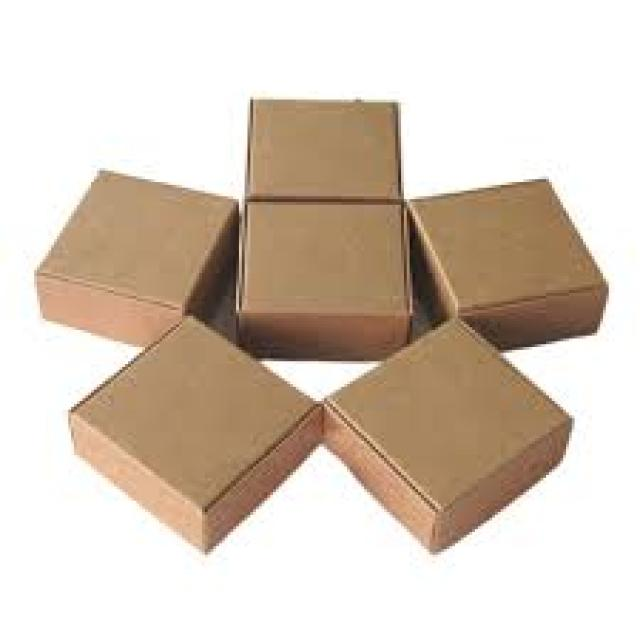Kardus kondisi bagus: (312, 319, 578, 551), (67, 320, 328, 553), (35, 165, 242, 365), (387, 176, 607, 361), (237, 204, 412, 369), (251, 100, 406, 205)
